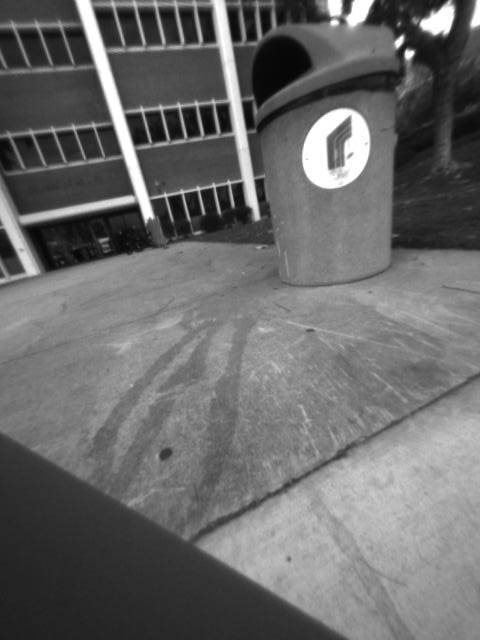trashcan: (248, 22, 409, 285)
